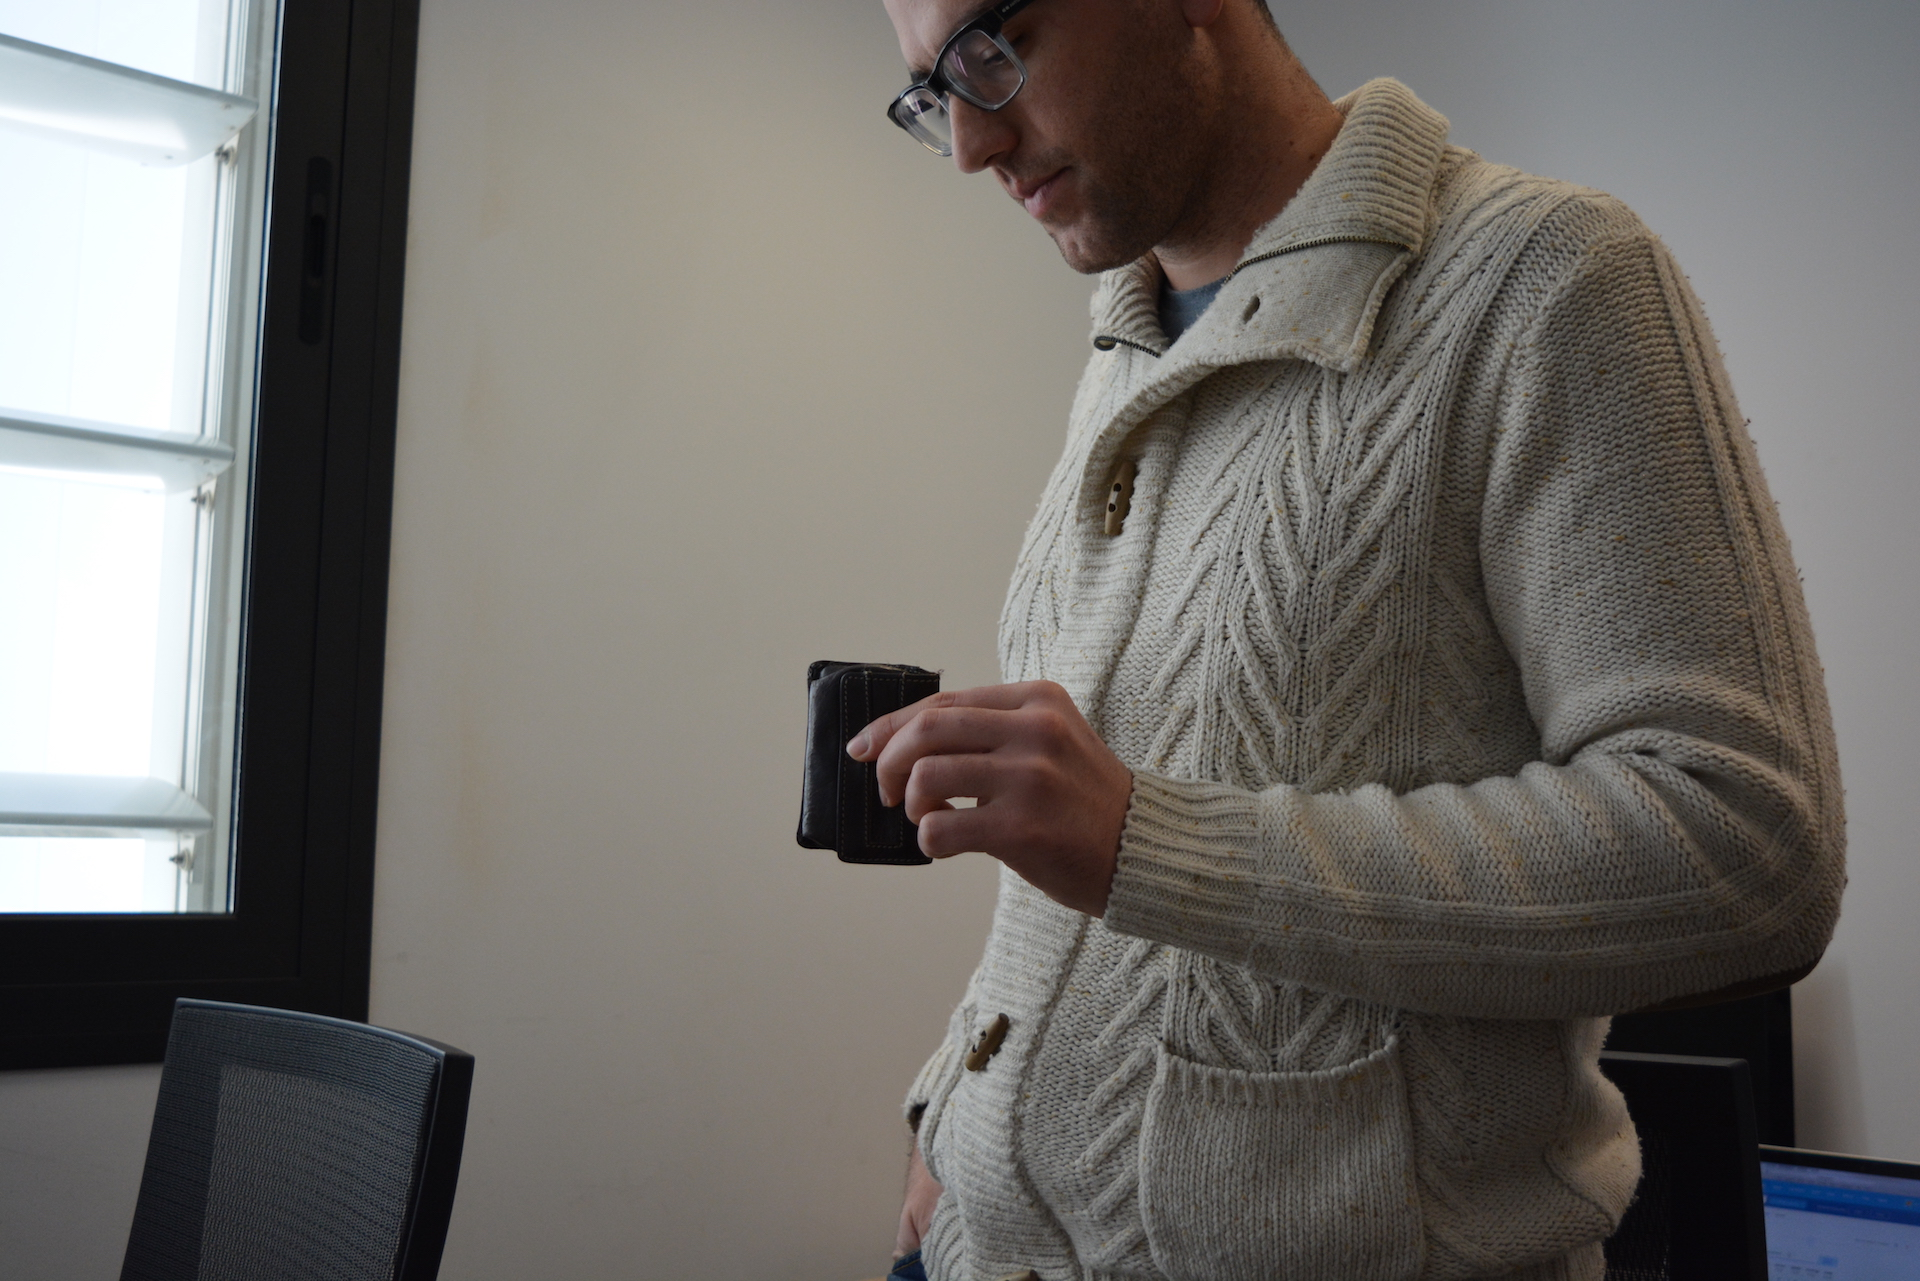monedero: (795, 659, 944, 868)
